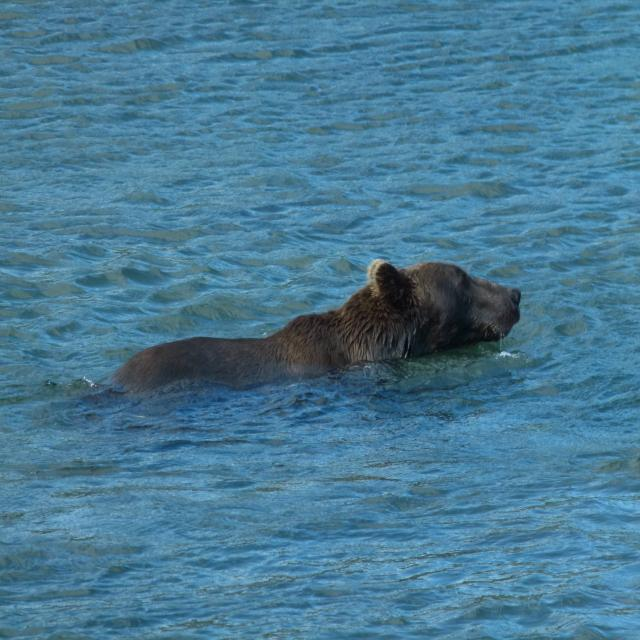bear face: (129, 254, 522, 384)
